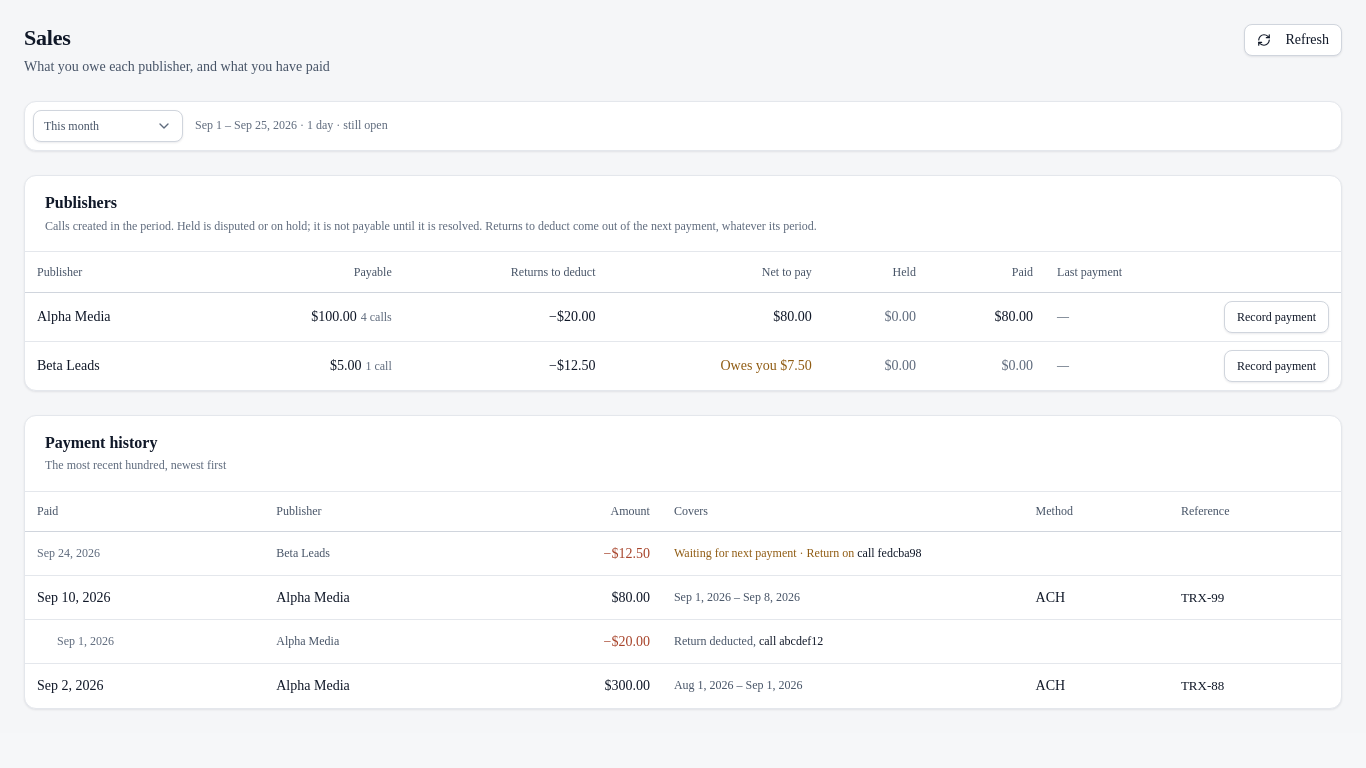
Test: white-label screens › /payouts › lets a payment net of returns be saved
expect the row that starts with "Alpha Media" is shown: met, box left=25, top=292, right=1341, bottom=341
What coordinates should you click on to do the following:
click the button "Record payment" in the row of "$100.00"
I would click on:
 (1276, 317)
Its box is left=1224, top=301, right=1329, bottom=333.
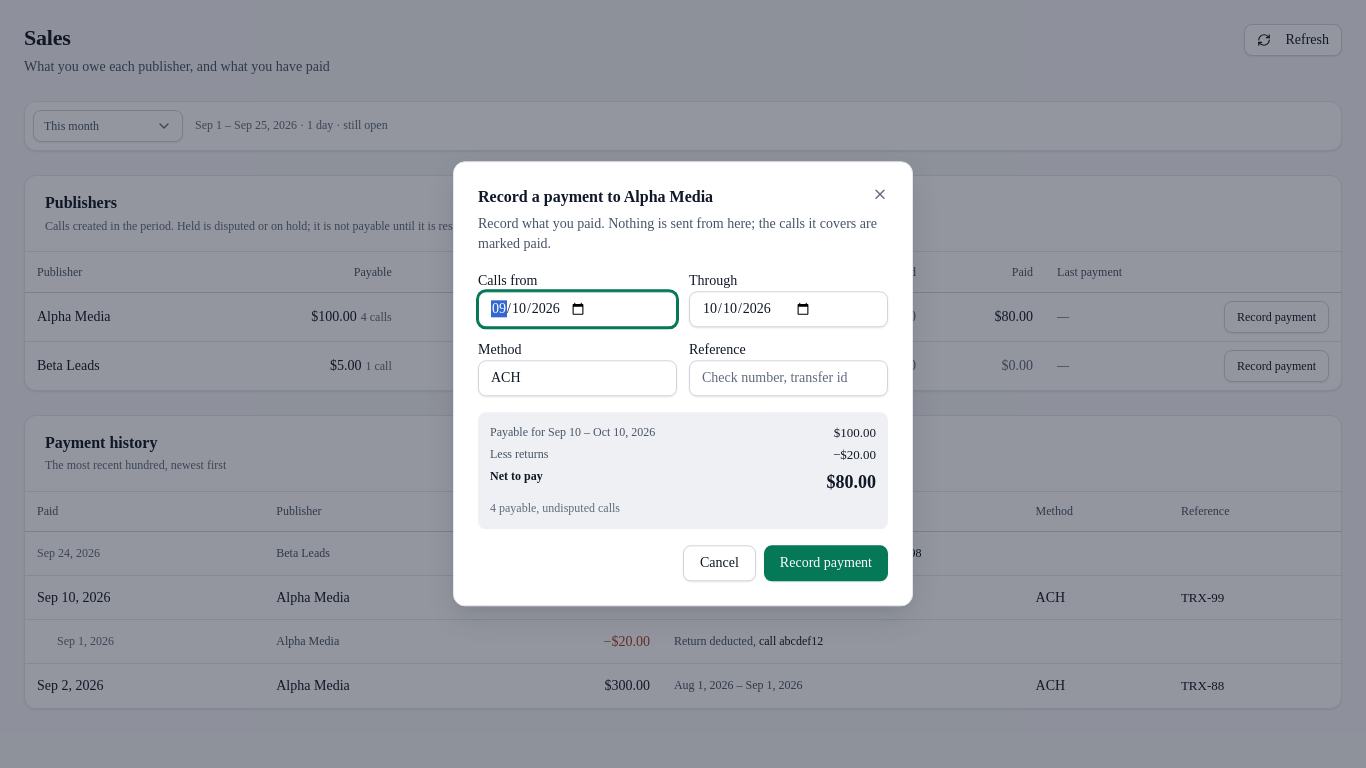
expect the element showing "$80.00" is shown: met, box left=826, top=468, right=876, bottom=496
expect the button "Record payment" is enabled: met, box left=764, top=546, right=888, bottom=582
